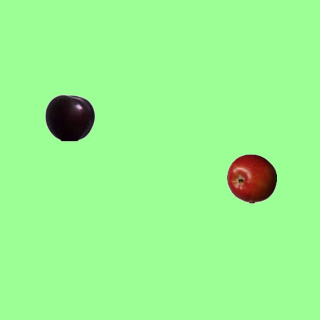Apple Braeburn: (226, 153, 276, 203)
Cherry Wax Black: (44, 92, 94, 142)
